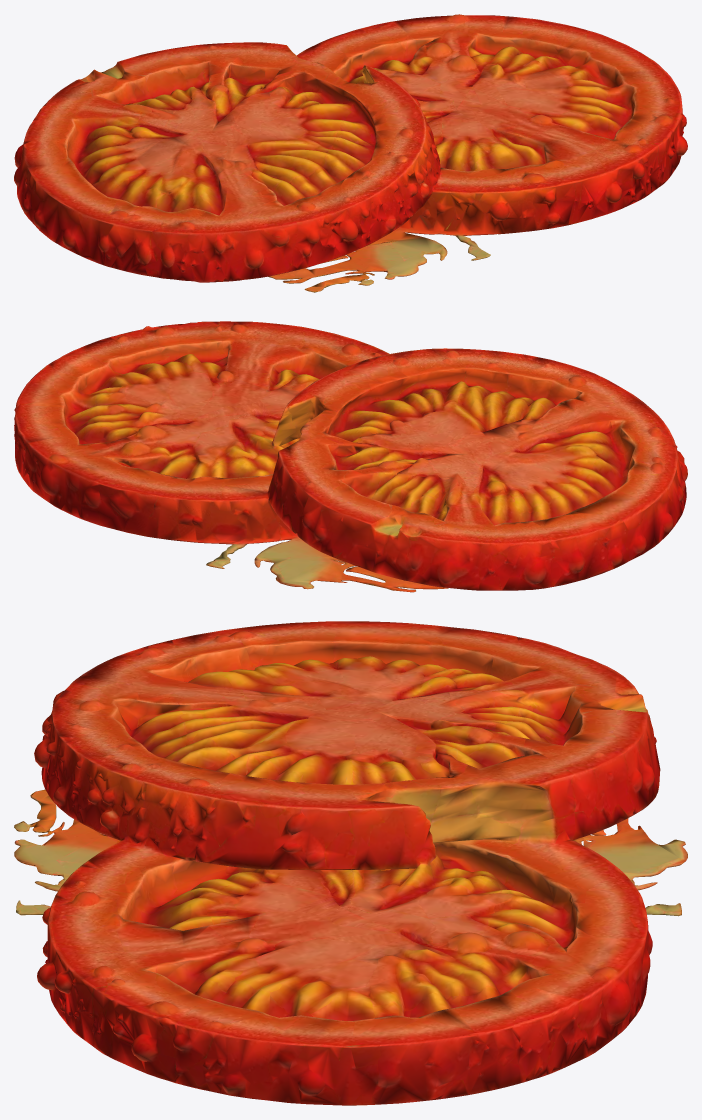
The model's file is tomato.glb.
3 views of the same model, one above another, from view 1: azimuth 30°, elevation 25°; view 2: azimuth 150°, elevation 25°; view 3: azimuth 270°, elevation 25° (orthographic). The views are drawn at different scales.
Size of the model in its own units: 1.9 by 0.2545 by 1.28.
1 material, 1 textured.
